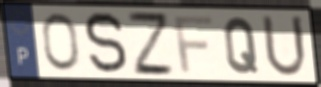F: (172, 15, 215, 76)
O: (39, 11, 82, 73)
Q: (222, 15, 260, 76)
S: (82, 9, 130, 76)
U: (259, 12, 310, 81)
Z: (124, 9, 178, 78)
